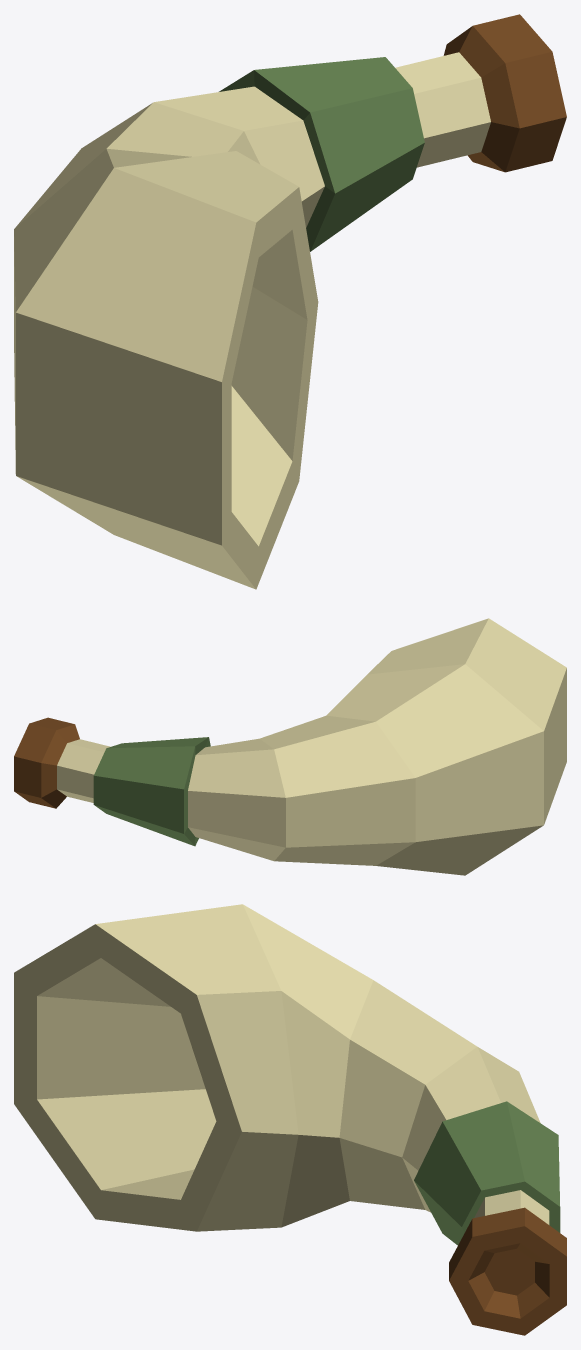
Rendered from F_Horn_Green.fbx.
The picture shows the model from 3 angles, top to bottom: view 1: azimuth 30°, elevation 25°; view 2: azimuth 150°, elevation 25°; view 3: azimuth 270°, elevation 25°; orthographic projection. The views are drawn at different scales.
Parts seen in each view (by area): view 1: F_Horn_Green; view 2: F_Horn_Green; view 3: F_Horn_Green.
Part boxes in pixels (x1,y1,x2,y2): F_Horn_Green: (14, 14, 566, 589); F_Horn_Green: (14, 618, 566, 875); F_Horn_Green: (14, 904, 566, 1335).
Size of the model in its own units: 44.6 by 22.39 by 38.01.
